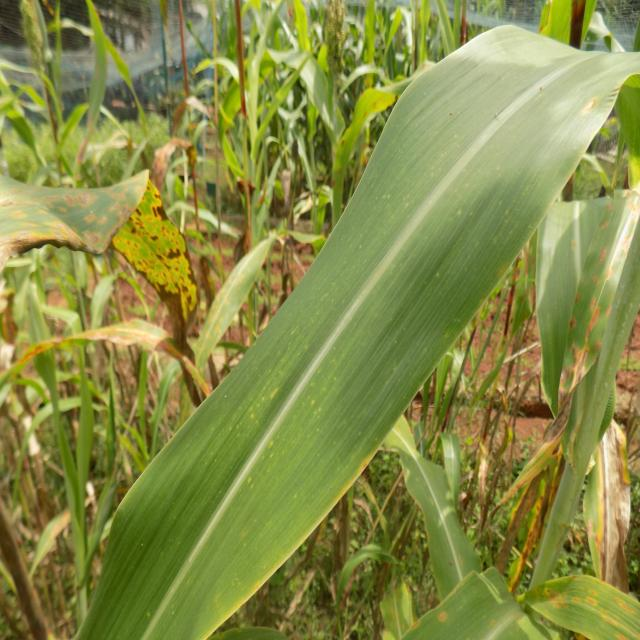millet_healthy: (78, 25, 640, 639), (256, 8, 356, 205)
millet_rust: (517, 186, 640, 512), (0, 166, 204, 325), (0, 318, 257, 428), (575, 393, 640, 640), (519, 563, 640, 639)
